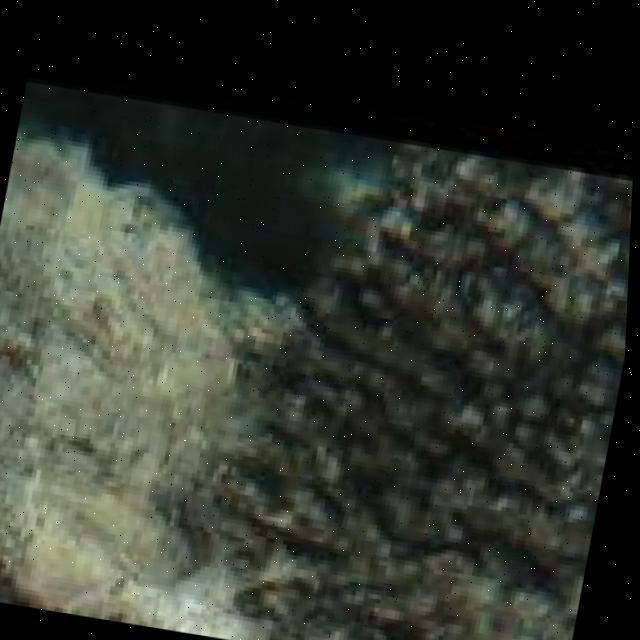Dead Coral: (233, 89, 637, 640)
